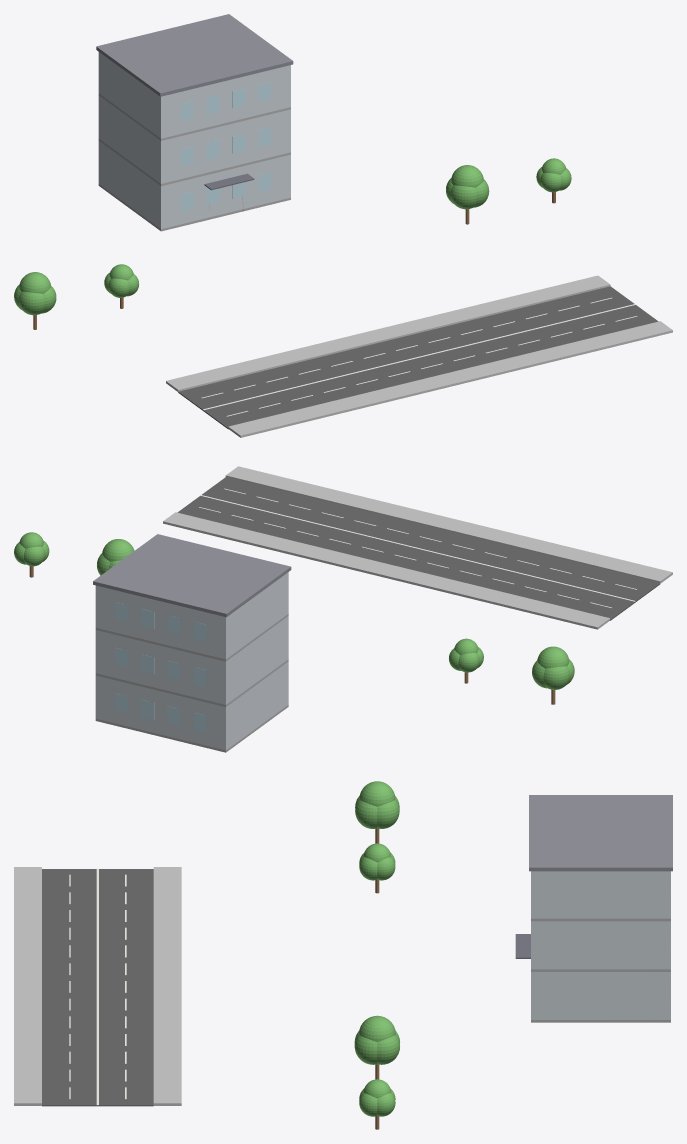
The model's file is office_building.gltf.
3 views of the same model, one above another, from view 1: azimuth 30°, elevation 25°; view 2: azimuth 150°, elevation 25°; view 3: azimuth 270°, elevation 25° (orthographic). The views are drawn at different scales.
Visible parts, largest first — view 1: Road_Surface, Office_Building_Roof, Sidewalk_-5.0, Sidewalk_5.0, Floor_2_Wall_Front, Floor_3_Wall_Front, Floor_1_Wall_Front, Floor_2_Wall_Left, Floor_1_Wall_Left, Floor_3_Wall_Left, Tree_2, Tree_0 (+3 smaller); view 2: Road_Surface, Office_Building_Roof, Sidewalk_5.0, Sidewalk_-5.0, Floor_2_Wall_Back, Floor_1_Wall_Back, Floor_3_Wall_Back, Floor_1_Wall_Left, Floor_2_Wall_Left, Floor_3_Wall_Left, Tree_0, Tree_3 (+6 smaller); view 3: Road_Surface, Office_Building_Roof, Sidewalk_5.0, Sidewalk_-5.0, Floor_2_Wall_Right, Floor_1_Wall_Right, Floor_3_Wall_Right, Tree_2, Tree_0, Tree_3, Tree_1, Road_CenterLine (+1 smaller).
Part boxes in pixels (x1,y1,x2,y2): Road_Surface: [178, 286, 658, 429]; Office_Building_Roof: [96, 14, 293, 96]; Sidewalk_-5.0: [228, 321, 672, 437]; Sidewalk_5.0: [166, 275, 610, 391]; Floor_2_Wall_Front: [160, 109, 290, 183]; Floor_3_Wall_Front: [160, 65, 290, 138]; Floor_1_Wall_Front: [160, 154, 290, 229]; Floor_2_Wall_Left: [99, 96, 160, 182]; Floor_1_Wall_Left: [99, 141, 160, 228]; Floor_3_Wall_Left: [99, 52, 160, 137]; Tree_2: [446, 165, 489, 209]; Tree_0: [14, 272, 56, 315]; Road_Surface: [177, 477, 660, 620]; Office_Building_Roof: [93, 534, 291, 617]; Sidewalk_5.0: [163, 512, 610, 629]; Sidewalk_-5.0: [225, 466, 672, 583]; Floor_2_Wall_Back: [95, 630, 226, 704]; Floor_1_Wall_Back: [95, 675, 226, 750]; Floor_3_Wall_Back: [95, 585, 226, 659]; Floor_1_Wall_Left: [227, 662, 287, 749]; Floor_2_Wall_Left: [227, 617, 287, 703]; Floor_3_Wall_Left: [227, 573, 287, 658]; Tree_0: [532, 646, 574, 689]; Tree_3: [14, 532, 49, 566]; Road_Surface: [42, 869, 153, 1106]; Office_Building_Roof: [529, 795, 672, 871]; Sidewalk_5.0: [153, 867, 181, 1105]; Sidewalk_-5.0: [14, 867, 41, 1105]; Floor_2_Wall_Right: [533, 921, 668, 969]; Floor_1_Wall_Right: [533, 972, 668, 1019]; Floor_3_Wall_Right: [533, 871, 668, 918]; Tree_2: [354, 1015, 399, 1064]; Tree_0: [355, 781, 399, 828]; Tree_3: [359, 1079, 395, 1116]; Tree_1: [359, 843, 395, 880]; Road_CenterLine: [96, 868, 98, 1105].
Size of the model in its own units: 50.9 by 12.4 by 47.15.
